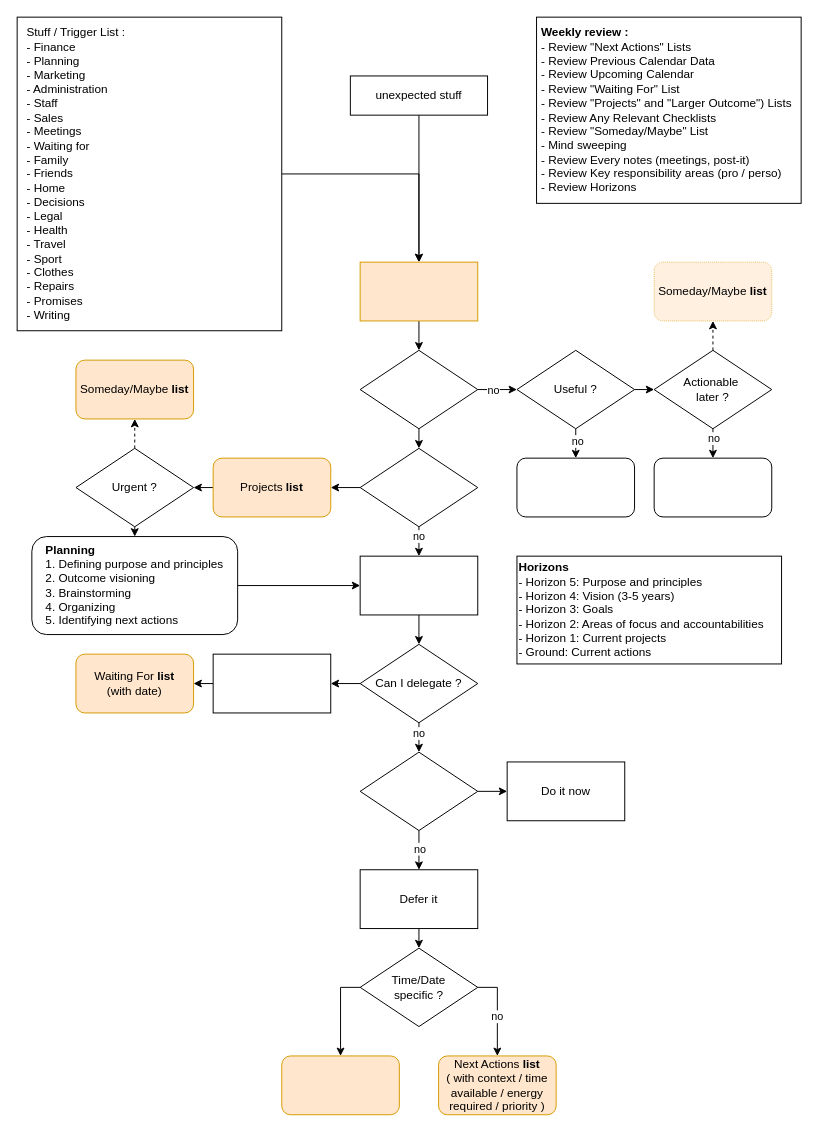
The diagram is 818 pixels wide and 1132 high, and some of its shapes have lost their labels. Each missing label, with the box of its shape:
"IN": (359, 261, 478, 321)
Actionable ?: (359, 349, 478, 429)
Calendar: (281, 1055, 399, 1115)
Delegate it: (212, 653, 331, 713)
Determine next action: (359, 555, 478, 615)
Less than 2 minutes ?: (359, 751, 478, 831)
More than one action ?: (359, 447, 478, 527)
Reference folder: (653, 457, 772, 517)
Trash: (516, 457, 635, 517)
